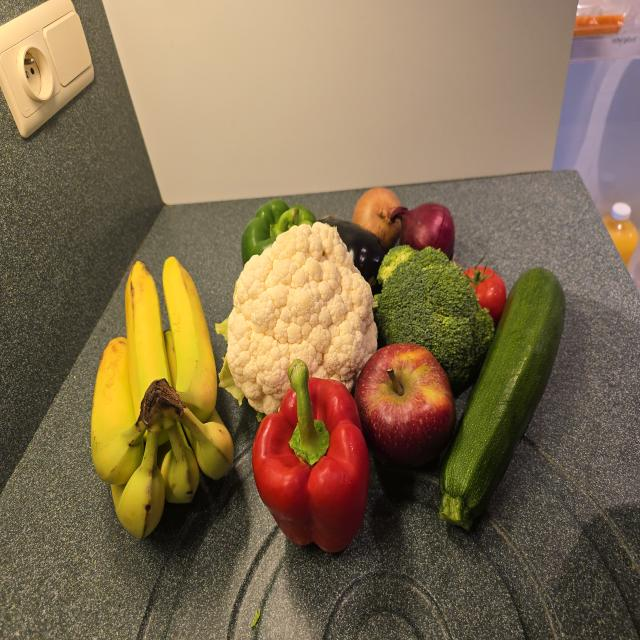Apple: (354, 343, 456, 467)
Banana: (91, 257, 233, 538)
Bell Pepper: (252, 359, 369, 552), (241, 199, 316, 264)
Broccoli: (373, 246, 495, 392)
Cauliflower: (216, 222, 378, 413)
Courgette: (439, 268, 566, 530)
Eggplant: (320, 215, 386, 282)
Onion: (392, 203, 455, 260), (352, 188, 402, 250)
Tomato: (464, 265, 506, 325)
